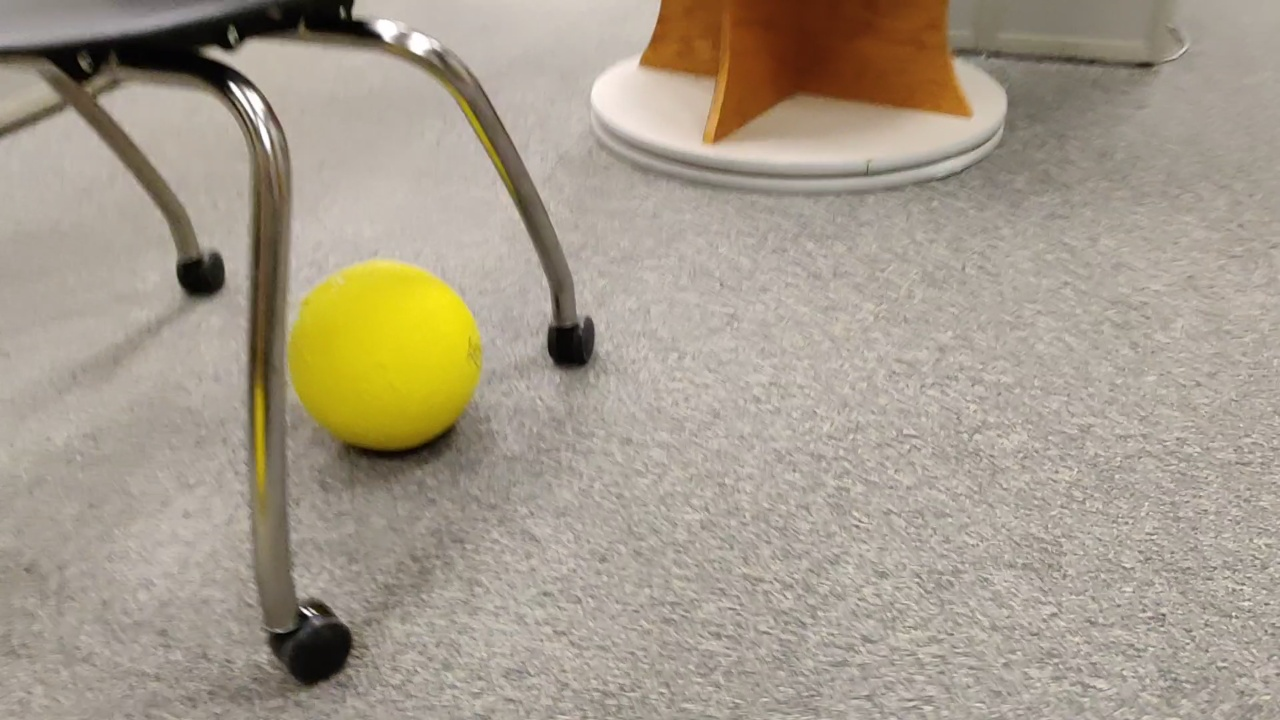Ball: (297, 256, 482, 459)
